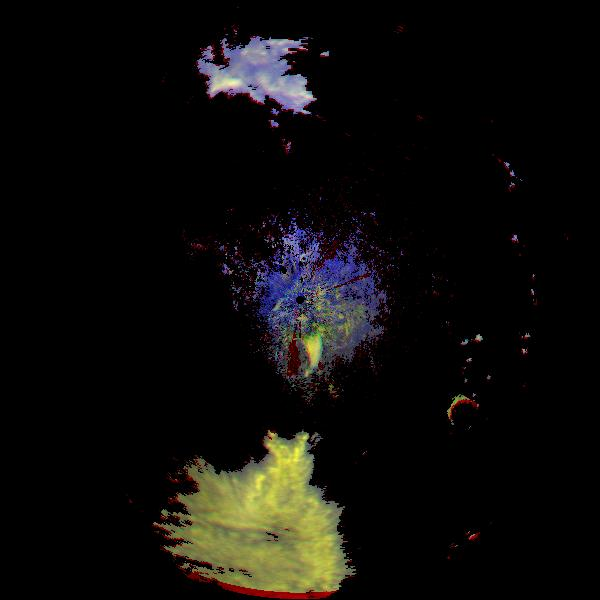roost: (252, 318, 330, 396), (442, 391, 496, 445)
